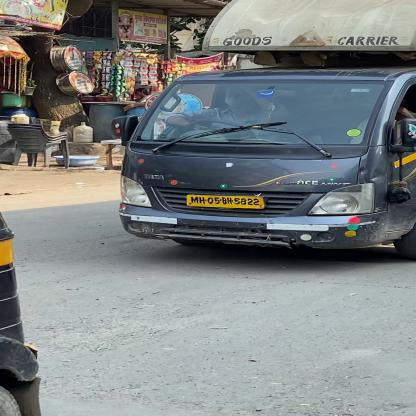license: (185, 193, 269, 211)
